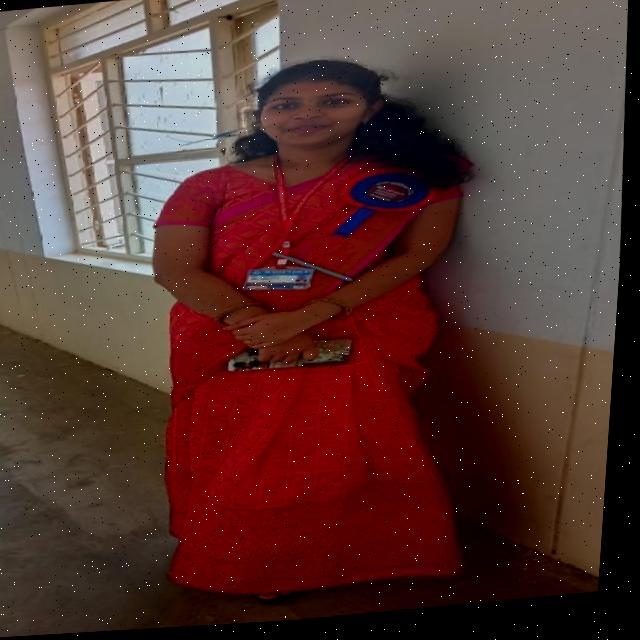id_card: (239, 140, 364, 319)
